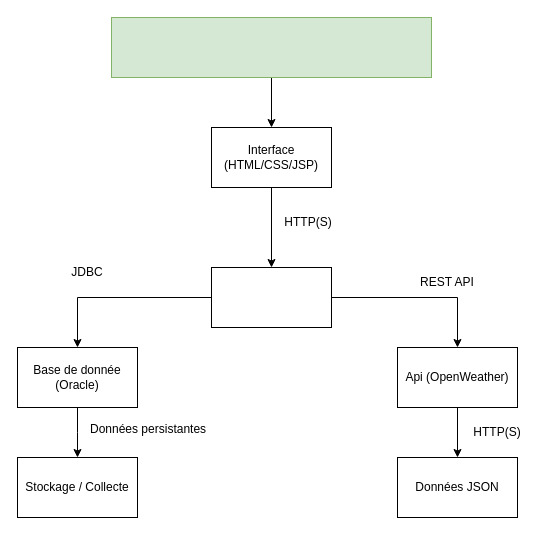
Image size: 545x535. Some labels were removed from this diagram. The box of each missing label's shape, as (x1, y1, x2, y2) in pixels:
Serveur Tomcat: (210, 266, 332, 328)
Utilisateur: (110, 16, 432, 78)
